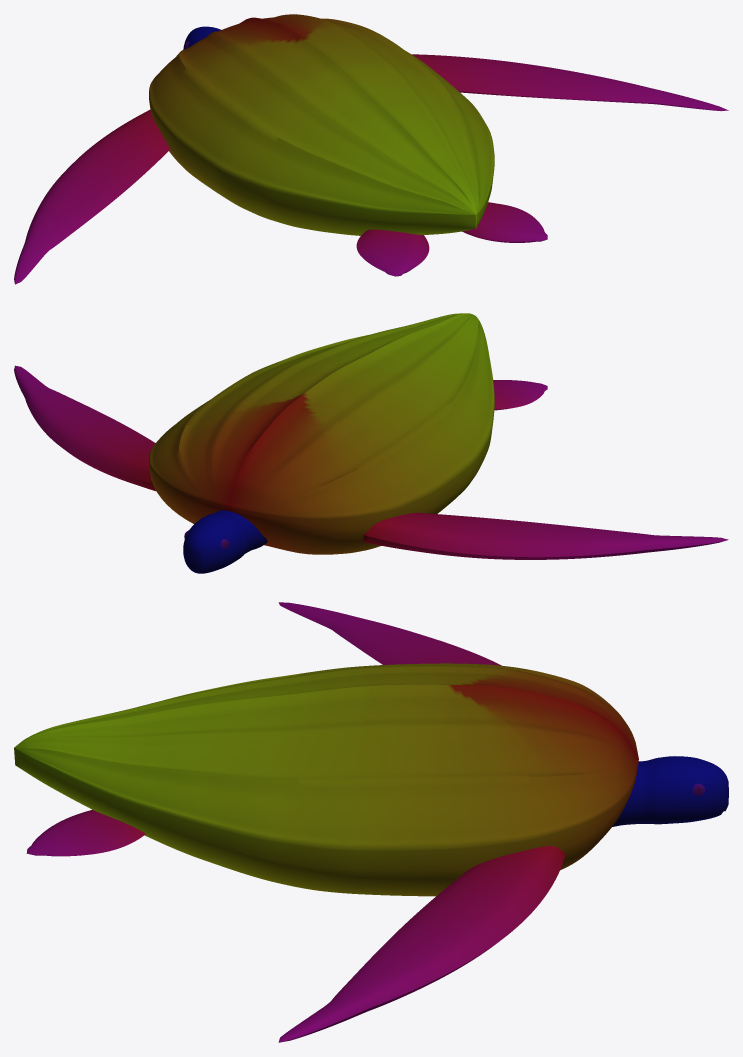
Rendered from sea_turtle_leatherback.glb.
The picture shows the model from 3 angles, top to bottom: view 1: azimuth 30°, elevation 25°; view 2: azimuth 150°, elevation 25°; view 3: azimuth 270°, elevation 25°; orthographic projection. The views are drawn at different scales.
Visible parts, largest first — view 1: sea_turtle_leatherback; view 2: sea_turtle_leatherback; view 3: sea_turtle_leatherback.
Part boxes in pixels (box(x1,y1,x2,y2)): sea_turtle_leatherback: box(14, 14, 728, 284); sea_turtle_leatherback: box(14, 313, 728, 573); sea_turtle_leatherback: box(14, 602, 728, 1042).
Bounding box in the file's own units: 3 × 0.5385 × 2.06.
